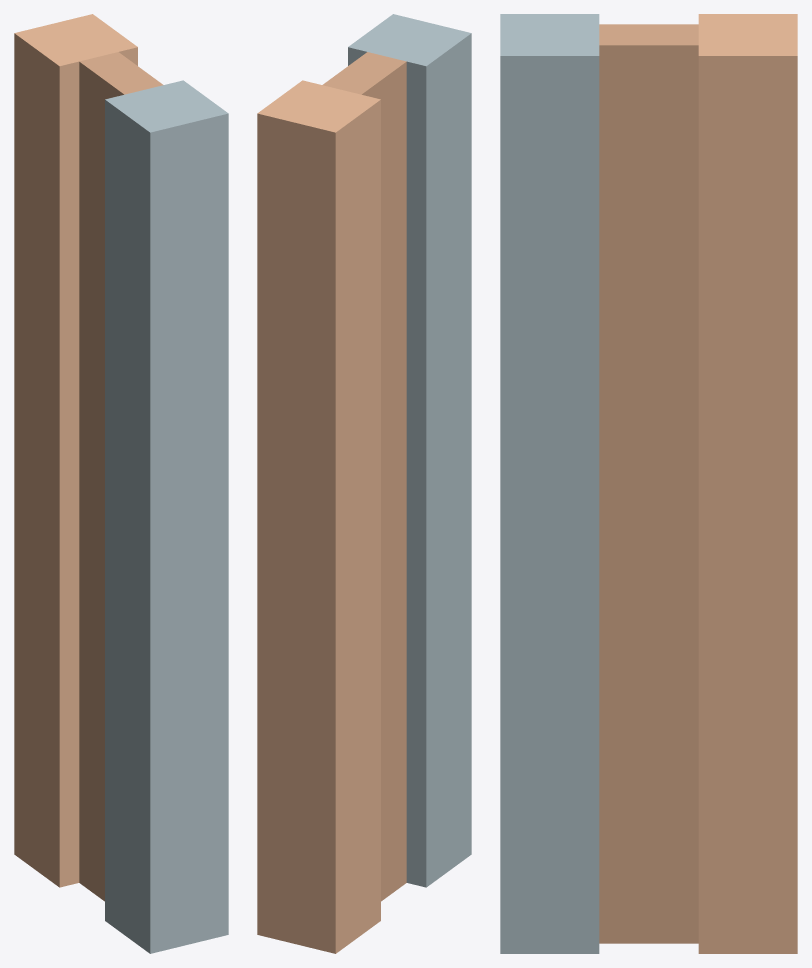
The model's file is wallWoodArch.glb.
3 views of the same model, side by side, from view 1: azimuth 30°, elevation 25°; view 2: azimuth 150°, elevation 25°; view 3: azimuth 270°, elevation 25° (orthographic). The views are drawn at different scales.
Visible parts, largest first — view 1: wallWoodArch; view 2: wallWoodArch; view 3: wallWoodArch.
Part boxes in pixels (box(x1,y1,x2,y2)): wallWoodArch: box(14, 14, 228, 953); wallWoodArch: box(257, 14, 471, 953); wallWoodArch: box(500, 14, 797, 953).
Size of the model in its own units: 0.1 by 1 by 0.3.
